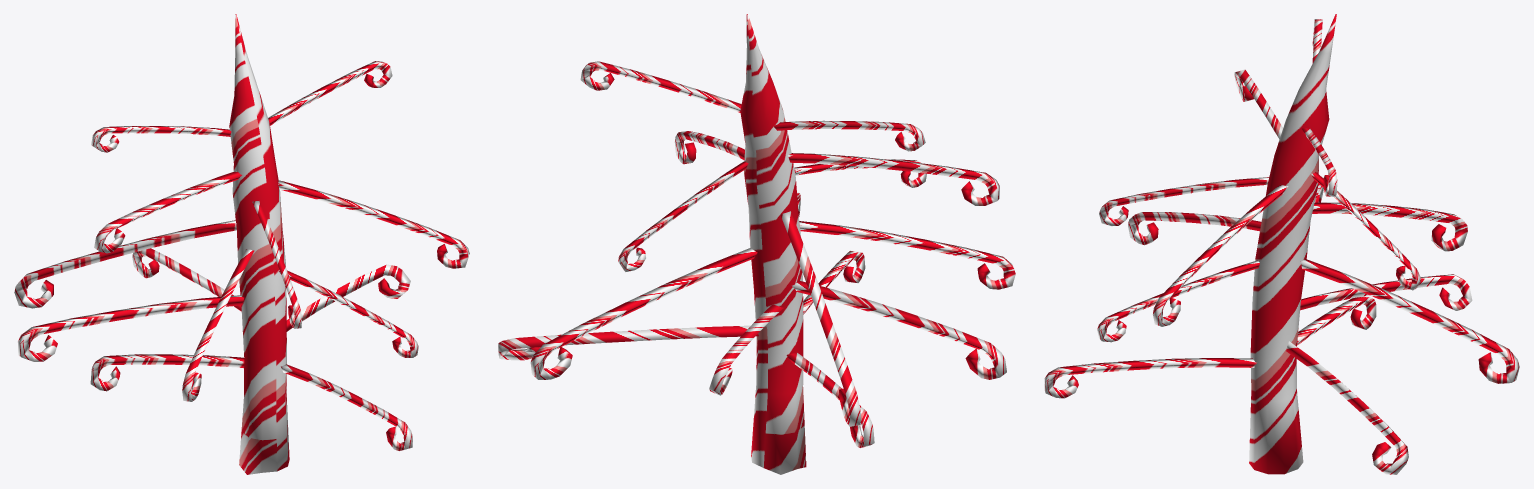
File: CandycaneTree.fbx
The picture shows the model from 3 angles, left to right: view 1: azimuth 30°, elevation 25°; view 2: azimuth 150°, elevation 25°; view 3: azimuth 270°, elevation 25°; orthographic projection. The views are drawn at different scales.
Parts seen in each view (by area): view 1: Cylinder; view 2: Cylinder; view 3: Cylinder.
Boxes of the visible parts, left/top/right/bottom form: Cylinder: left=14, top=14, right=469, bottom=474; Cylinder: left=498, top=14, right=1015, bottom=474; Cylinder: left=1044, top=14, right=1519, bottom=474.
Bounding box in the file's own units: 593 × 574 × 544.
